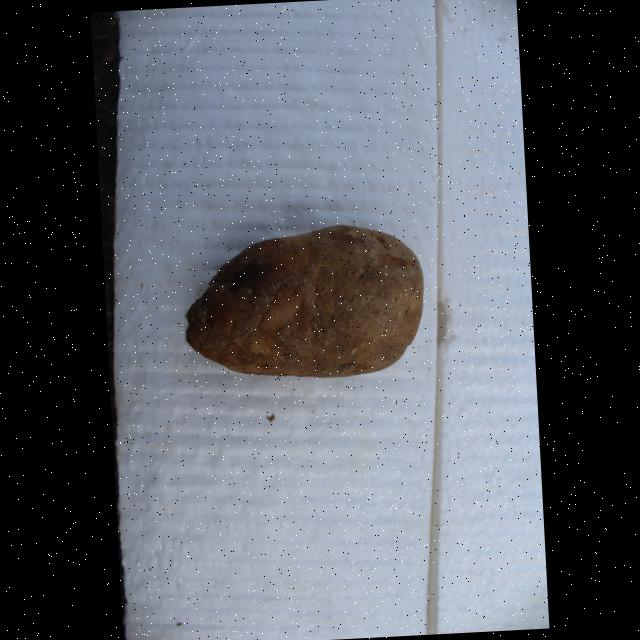Diseased-fungal potato: (176, 218, 430, 388)
